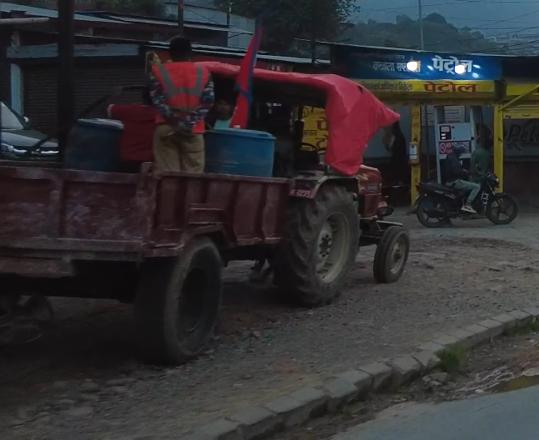bike: (412, 158, 522, 231)
tractor: (0, 48, 418, 372)
